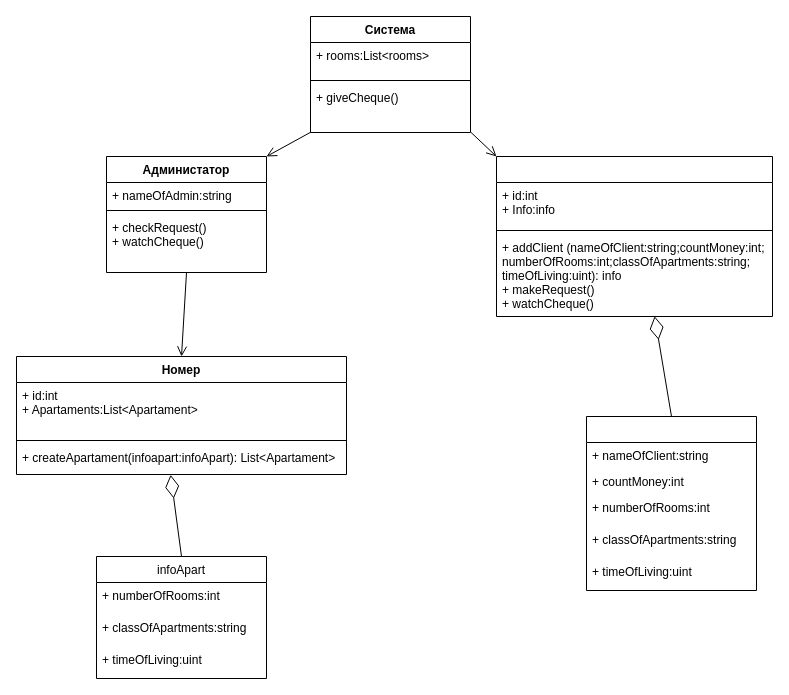
The diagram is 789 pixels wide and 695 high, and some of its shapes have lost their labels. Each missing label, with the box of its shape:
info: (586, 416, 756, 590)
Клиент: (496, 156, 772, 316)
